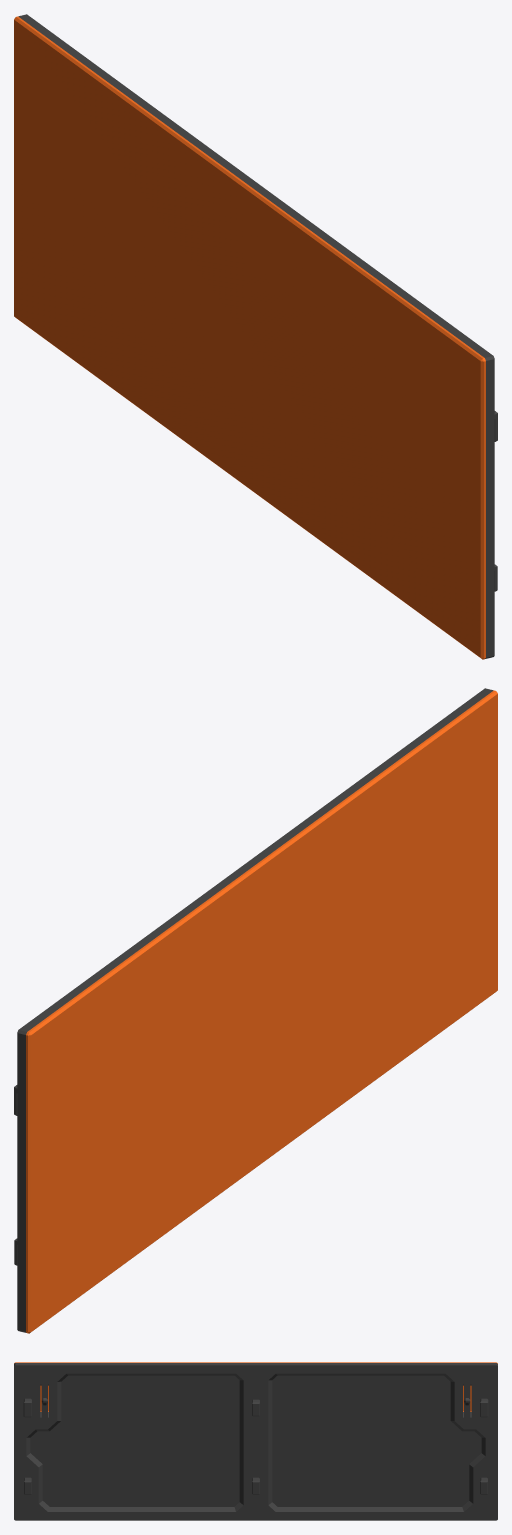
The model's file is SideCover_165-1H.lib.glb.
3 views of the same model, one above another, from view 1: azimuth 30°, elevation 25°; view 2: azimuth 150°, elevation 25°; view 3: azimuth 270°, elevation 25° (orthographic). The views are drawn at different scales.
Parts seen in each view (by area): view 1: SideCover_165-1H; view 2: SideCover_165-1H; view 3: SideCover_165-1H.
Boxes of the visible parts, x1,y1,x2,y2 form: SideCover_165-1H: (14,14,497,659); SideCover_165-1H: (14,688,497,1333); SideCover_165-1H: (14,1362,497,1520).
Bounding box in the file's own units: 5.04 × 55.6 × 157.
